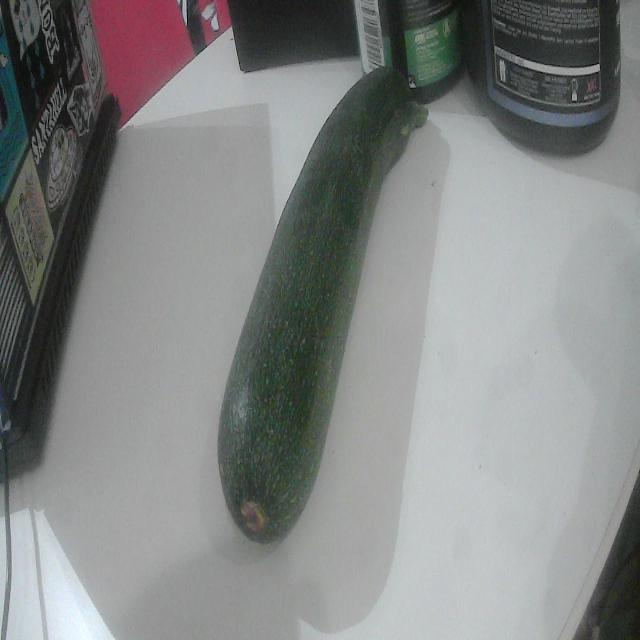Courgette: (218, 68, 427, 543)
